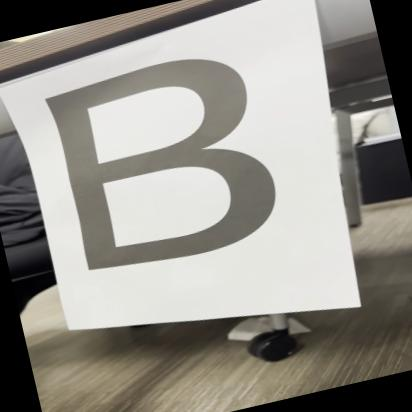seat: (32, 41, 301, 292)
